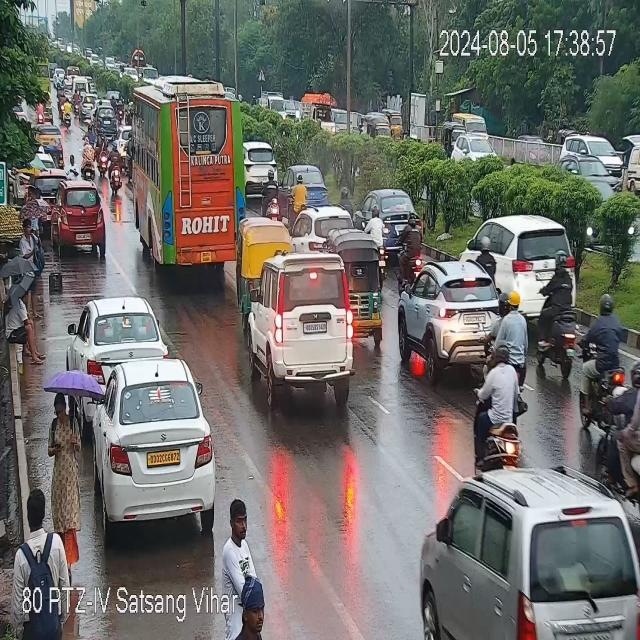2-wheelers: (537, 258, 580, 378), (577, 354, 640, 431), (576, 300, 630, 382), (493, 289, 531, 378), (93, 104, 117, 154), (263, 169, 279, 219), (110, 87, 133, 115), (109, 91, 127, 122), (82, 138, 95, 179), (110, 140, 120, 193), (99, 129, 108, 177), (338, 184, 352, 208), (63, 96, 71, 129), (72, 88, 80, 116), (36, 106, 46, 120)
auto: (339, 228, 383, 350), (236, 214, 286, 308), (356, 113, 403, 143)
bus: (130, 70, 248, 283)
car: (420, 470, 640, 640), (90, 354, 216, 524), (253, 250, 347, 400), (395, 259, 503, 365), (464, 212, 587, 291), (71, 299, 167, 375), (478, 338, 528, 462), (567, 129, 631, 196), (52, 186, 107, 252), (364, 188, 420, 252), (292, 204, 350, 252), (282, 166, 328, 208), (244, 141, 278, 192)
pedestrian: (50, 388, 78, 560), (14, 488, 62, 580), (226, 497, 257, 591), (6, 295, 43, 367), (240, 566, 273, 640), (22, 219, 38, 262), (25, 185, 42, 202), (66, 154, 78, 176)
